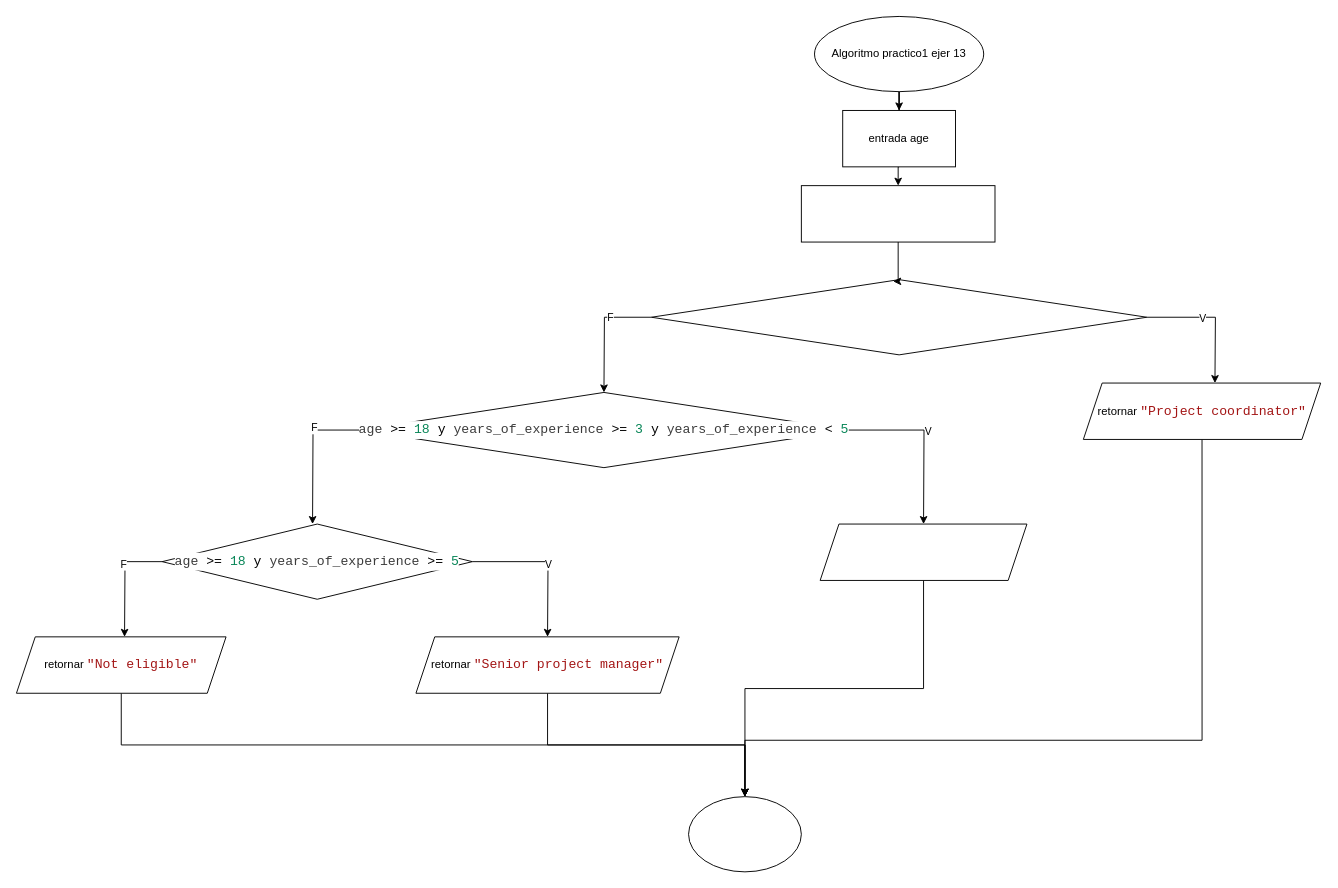
This 1338x888 diagram has some shape labels left out. The shapes that lost their labels are listed below. From the top down, each one's centre as x and y in pixels, then its label:
(897,213): entrada years_of_experience
(898,317): age >= 18 y years_of_experience < 3 y years_of_experience >= 0
(923,551): retornar "Project manager"
(744,834): FinAlgorritmo
